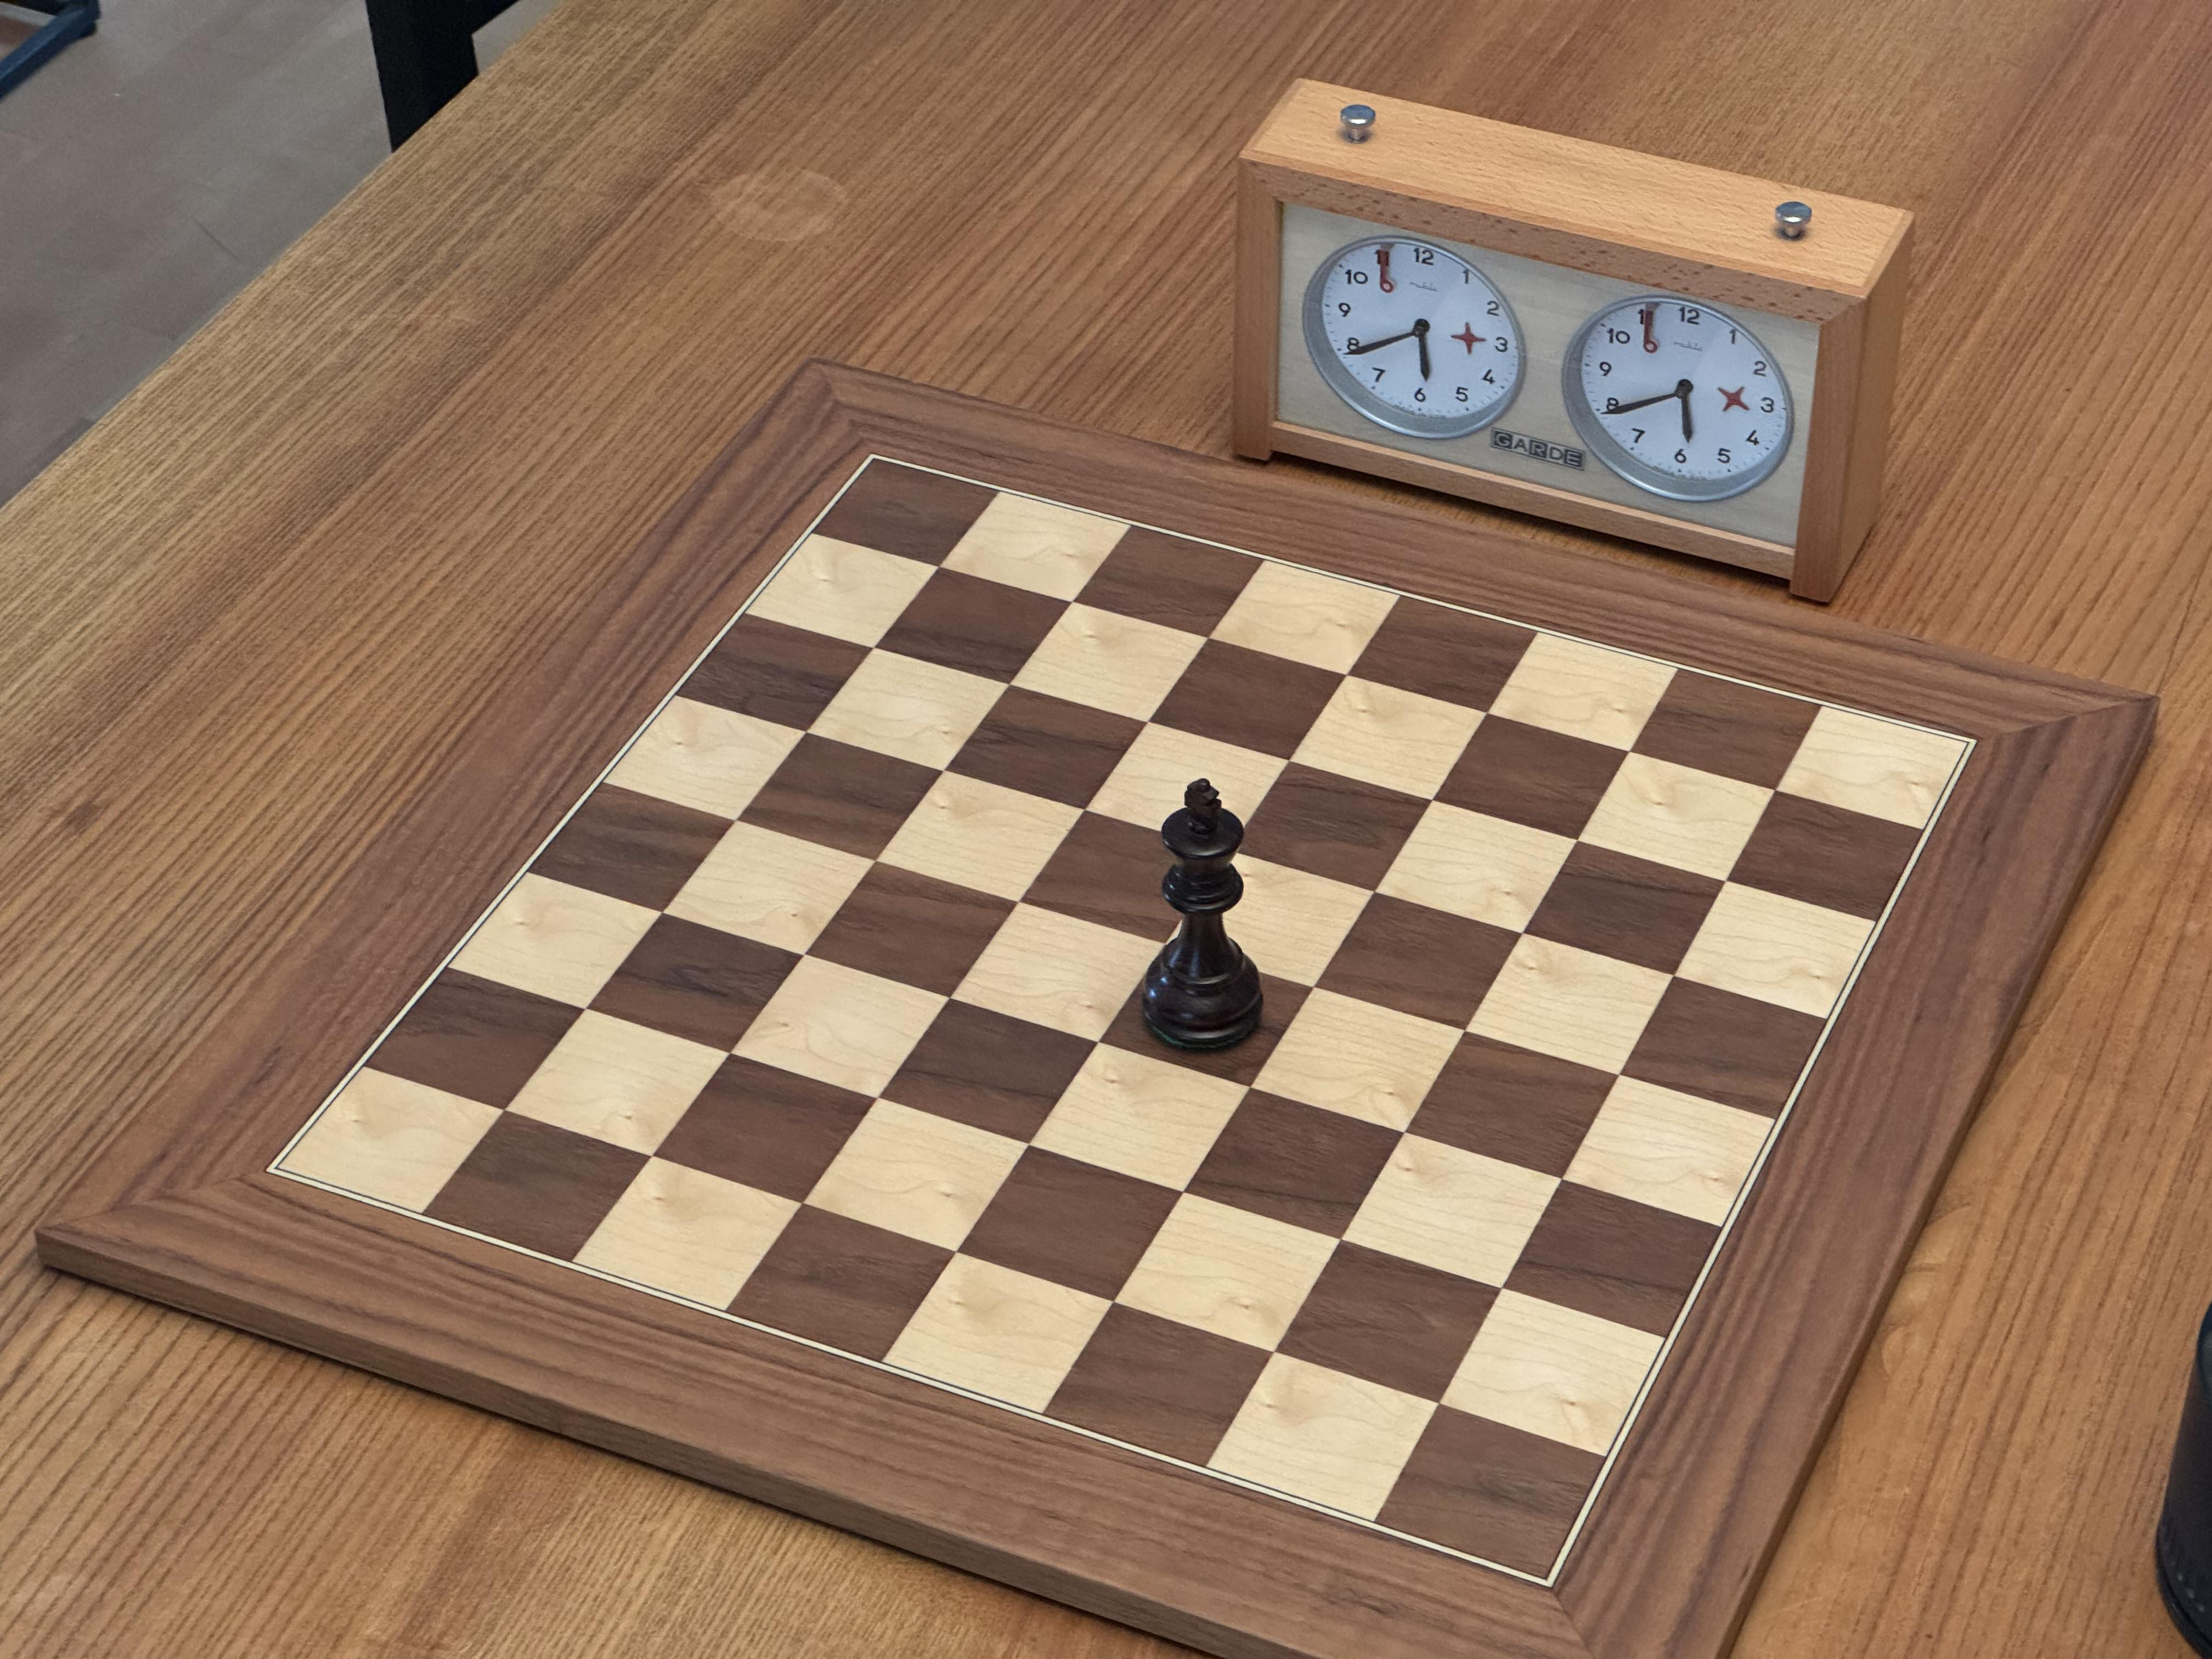Black King: (1131, 773, 1272, 1061)
